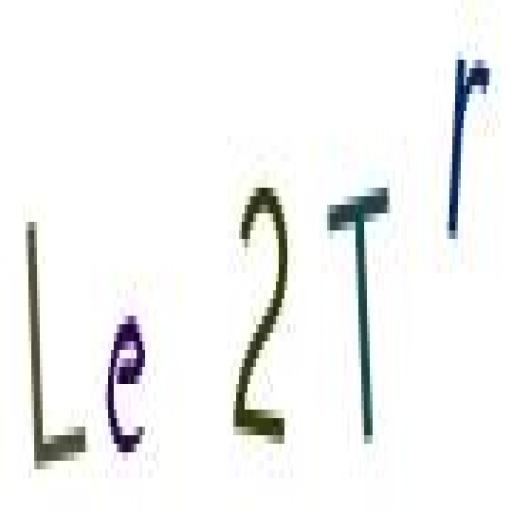2: (229, 172, 293, 462)
L: (17, 199, 93, 483)
T: (322, 170, 398, 464)
e: (104, 302, 152, 466)
r: (447, 36, 494, 250)
